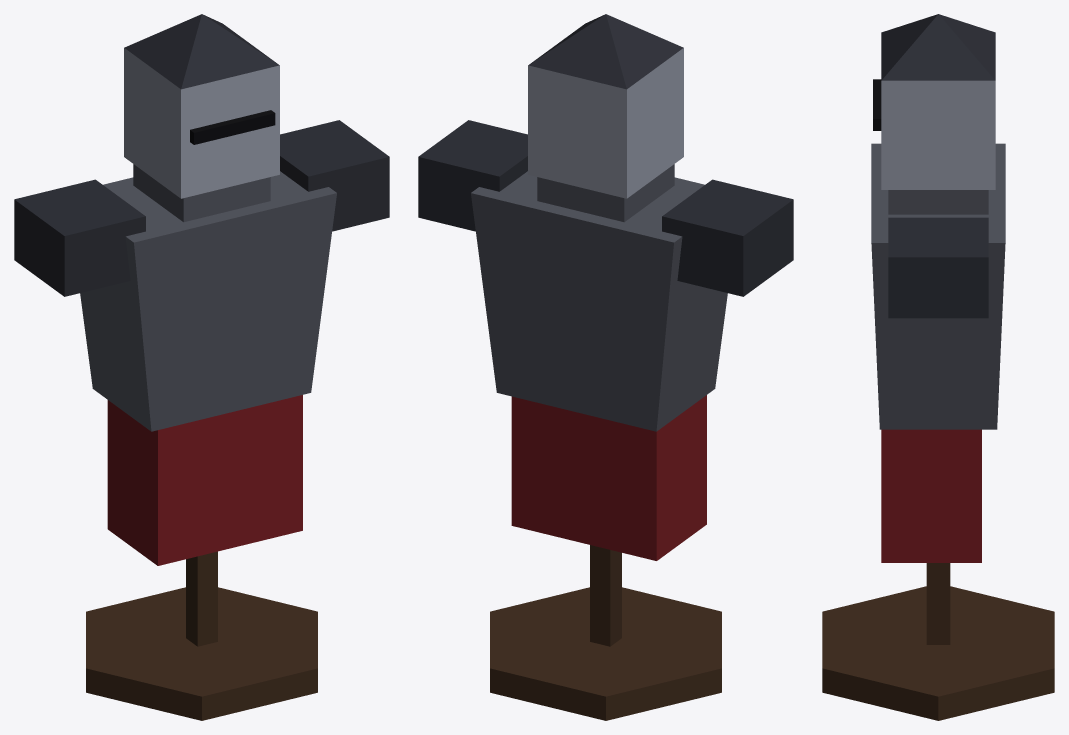
Rendered from armor_stand.fbx.
3 views of the same model, side by side, from view 1: azimuth 30°, elevation 25°; view 2: azimuth 150°, elevation 25°; view 3: azimuth 270°, elevation 25° (orthographic).
Parts seen in each view (by area): view 1: armor_stand; view 2: armor_stand; view 3: armor_stand.
Part boxes in pixels (bbox=[...]): armor_stand: bbox=[14, 14, 389, 720]; armor_stand: bbox=[418, 14, 793, 720]; armor_stand: bbox=[822, 14, 1054, 720].
Size of the model in its own units: 1.12 by 2.14 by 0.6928.
